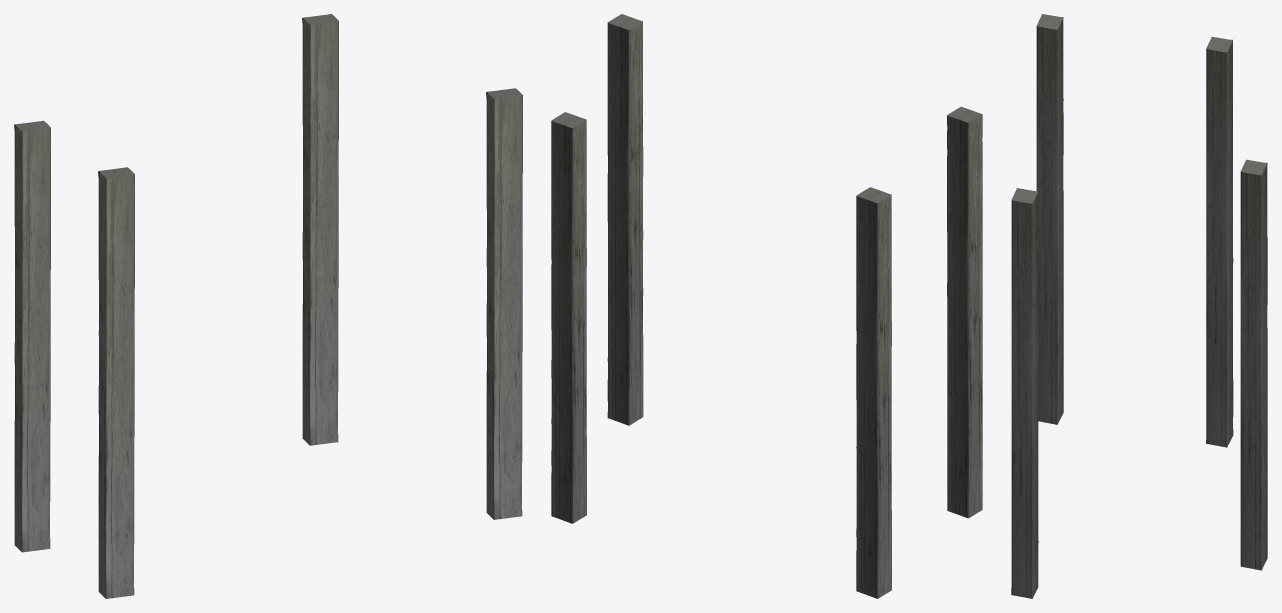
Rendered from pillars.glb.
The picture shows the model from 3 angles, left to right: view 1: azimuth 30°, elevation 25°; view 2: azimuth 150°, elevation 25°; view 3: azimuth 270°, elevation 25°; orthographic projection. The views are drawn at different scales.
Visible parts, largest first — view 1: Retopo_3DModel_mesh.004 (×4); view 2: Retopo_3DModel_mesh.004 (×4); view 3: Retopo_3DModel_mesh.004 (×4).
Boxes of the visible parts, x1,y1,x2,y2 form: Retopo_3DModel_mesh.004 (×4): [14, 14, 522, 598]; Retopo_3DModel_mesh.004 (×4): [551, 14, 982, 598]; Retopo_3DModel_mesh.004 (×4): [1011, 14, 1267, 598].
Size of the model in its own units: 10.38 by 10.89 by 6.06.
1 material, 1 textured.
